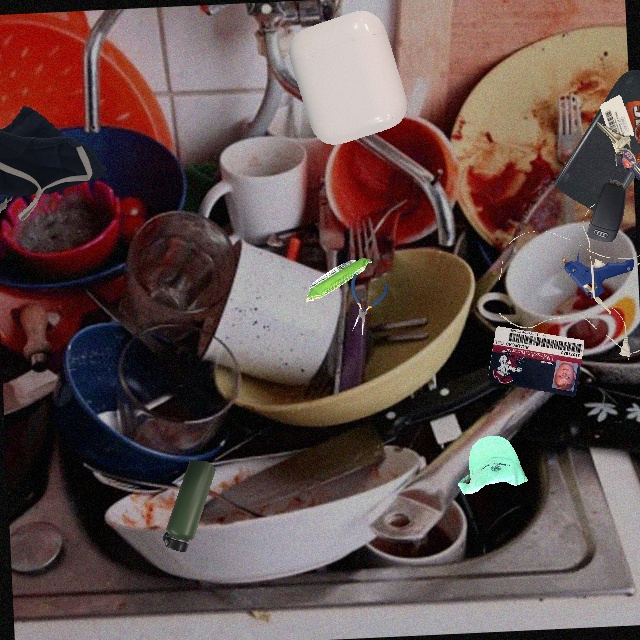Airpods: (277, 0, 443, 154)
Bottle: (144, 461, 240, 557)
Calculator: (542, 57, 640, 227)
Granola Bar: (293, 235, 384, 326)
Hat: (456, 430, 531, 505)
Hot Glue Gun: (499, 188, 640, 370)
Keys: (543, 87, 640, 255)
Mask: (0, 66, 112, 250)
Pliers: (331, 272, 395, 337)
Ucard: (484, 304, 592, 412)
